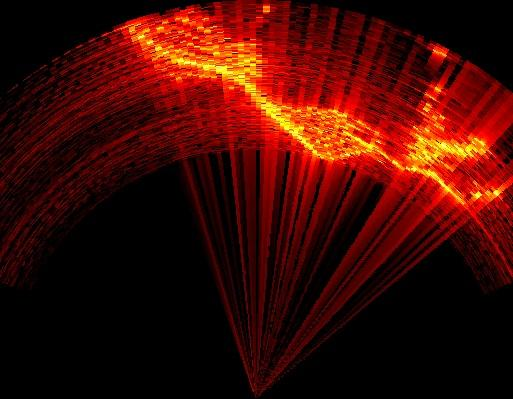shipwreck: (129, 23, 398, 165), (408, 155, 512, 204), (409, 133, 487, 156), (176, 14, 212, 39)
